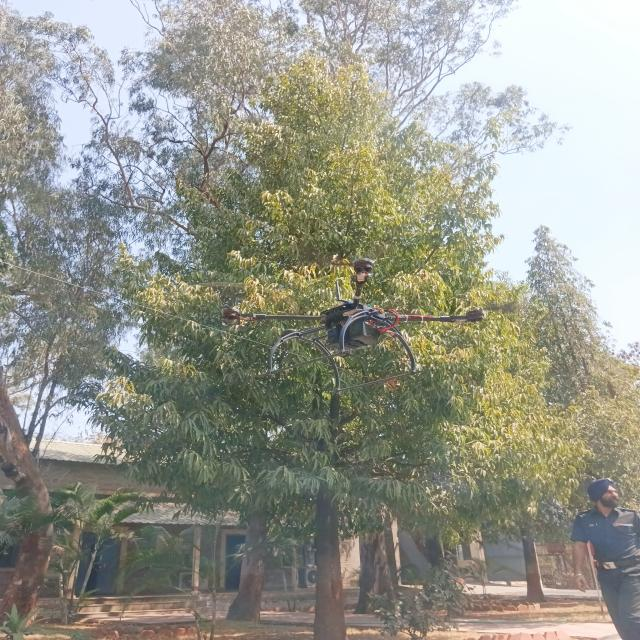drone: (178, 248, 540, 406)
